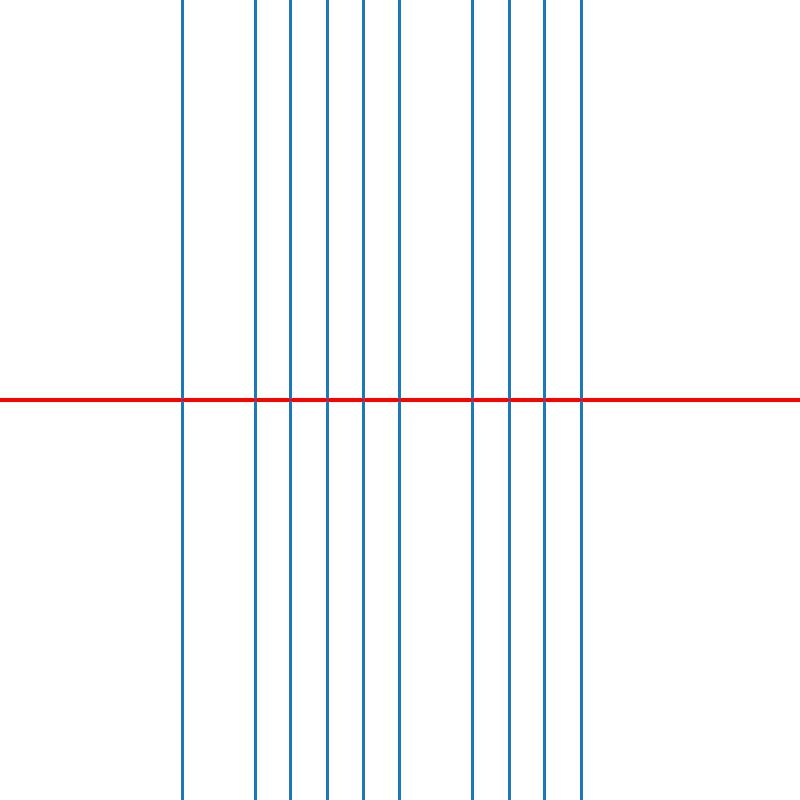root: (541, 396, 549, 404), (250, 396, 258, 404), (505, 396, 512, 404), (469, 396, 476, 404), (396, 396, 403, 404), (360, 396, 367, 404), (178, 396, 185, 404), (578, 396, 585, 404), (287, 396, 294, 404), (323, 396, 330, 404)
